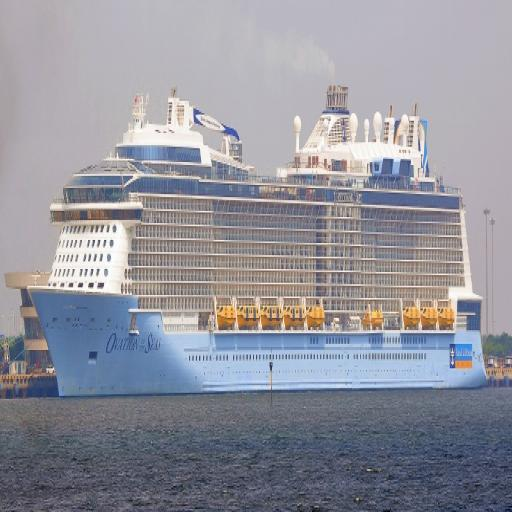cruises: (26, 73, 491, 397)
